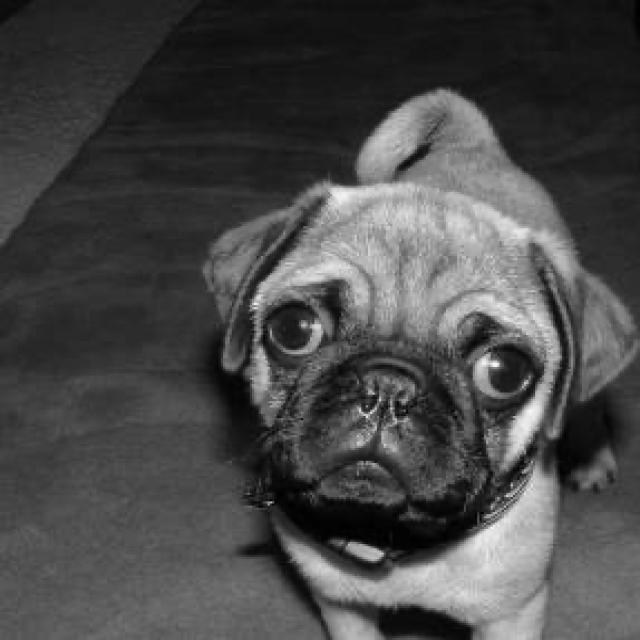dog: (198, 179, 638, 521)
